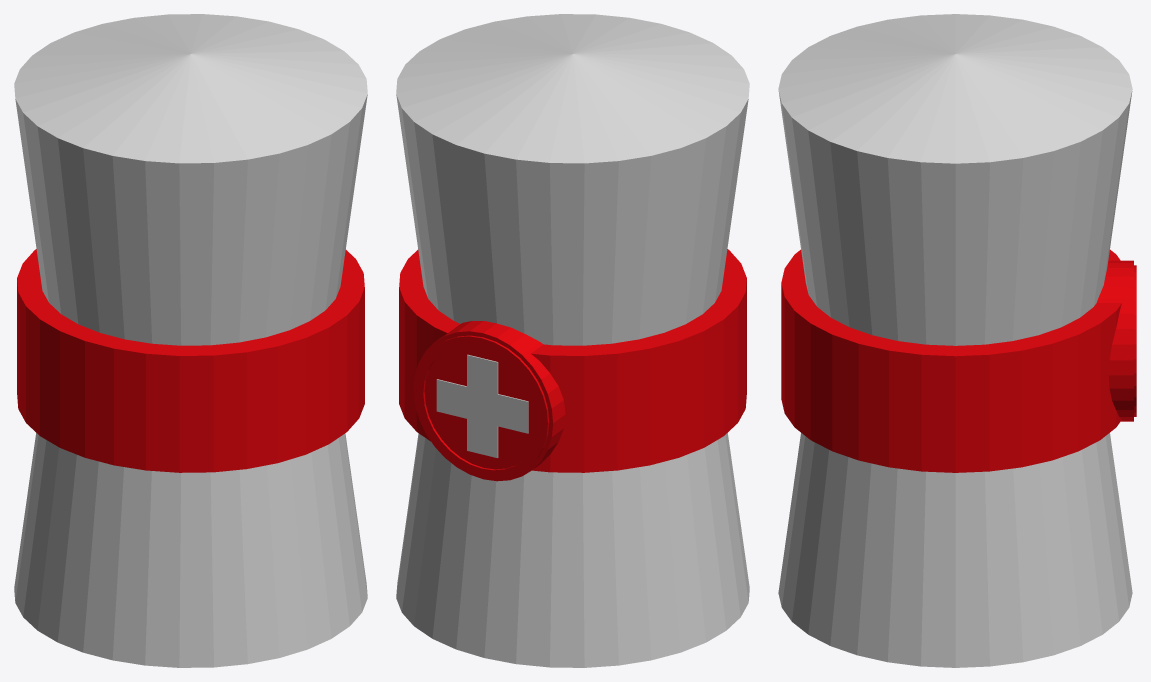
Rendered from vendas.fbx.
3 views of the same model, side by side, from view 1: azimuth 30°, elevation 25°; view 2: azimuth 150°, elevation 25°; view 3: azimuth 270°, elevation 25° (orthographic).
Visible parts, largest first — view 1: Cylinder, Cylinder.001; view 2: Cylinder, Cylinder.001, Circle.001; view 3: Cylinder, Cylinder.001.
Part boxes in pixels (box(x1,y1,x2,y2)): Cylinder: box(14, 14, 367, 667); Cylinder.001: box(17, 249, 364, 472); Cylinder: box(396, 14, 749, 667); Cylinder.001: box(399, 249, 746, 481); Circle.001: box(436, 354, 528, 457); Cylinder: box(778, 14, 1132, 667); Cylinder.001: box(781, 249, 1136, 472).
Bounding box in the file's own units: 440 × 786 × 445.
